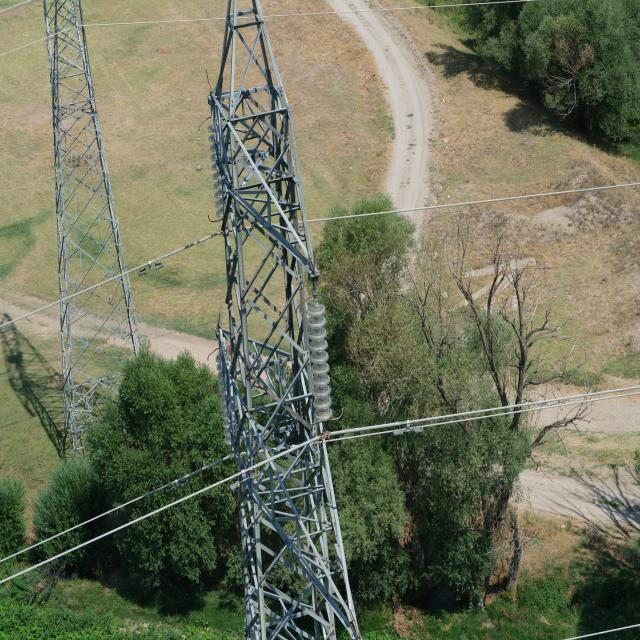direk: (210, 87, 360, 640), (47, 7, 138, 387)
